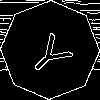Y: (25, 25, 81, 81)
